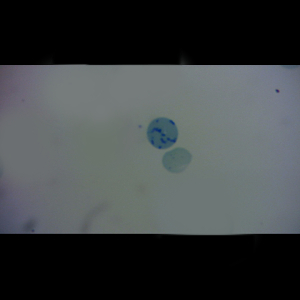aggregate reticulocyte: (145, 116, 180, 151)
punctate reticulocyte: (161, 146, 193, 174)
